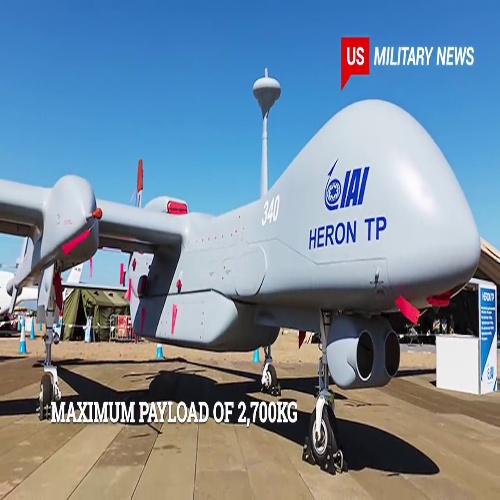uav488: (2, 73, 483, 470)
